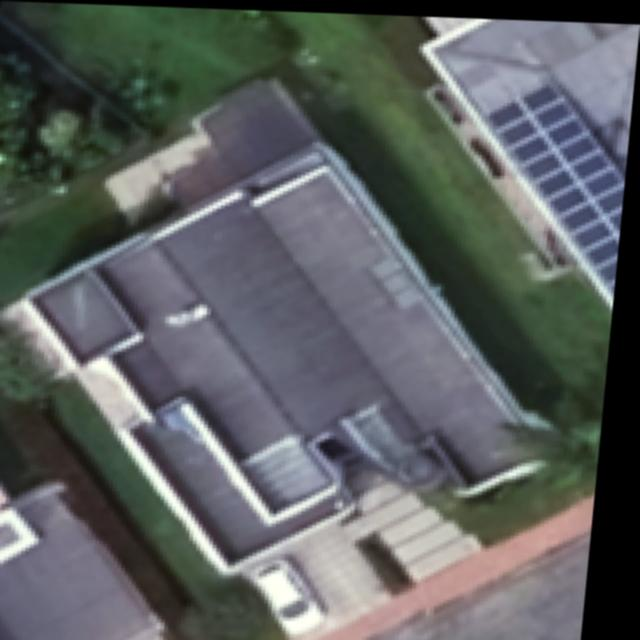Batiment: (2, 78, 549, 623), (422, 14, 640, 300), (0, 476, 180, 640)
